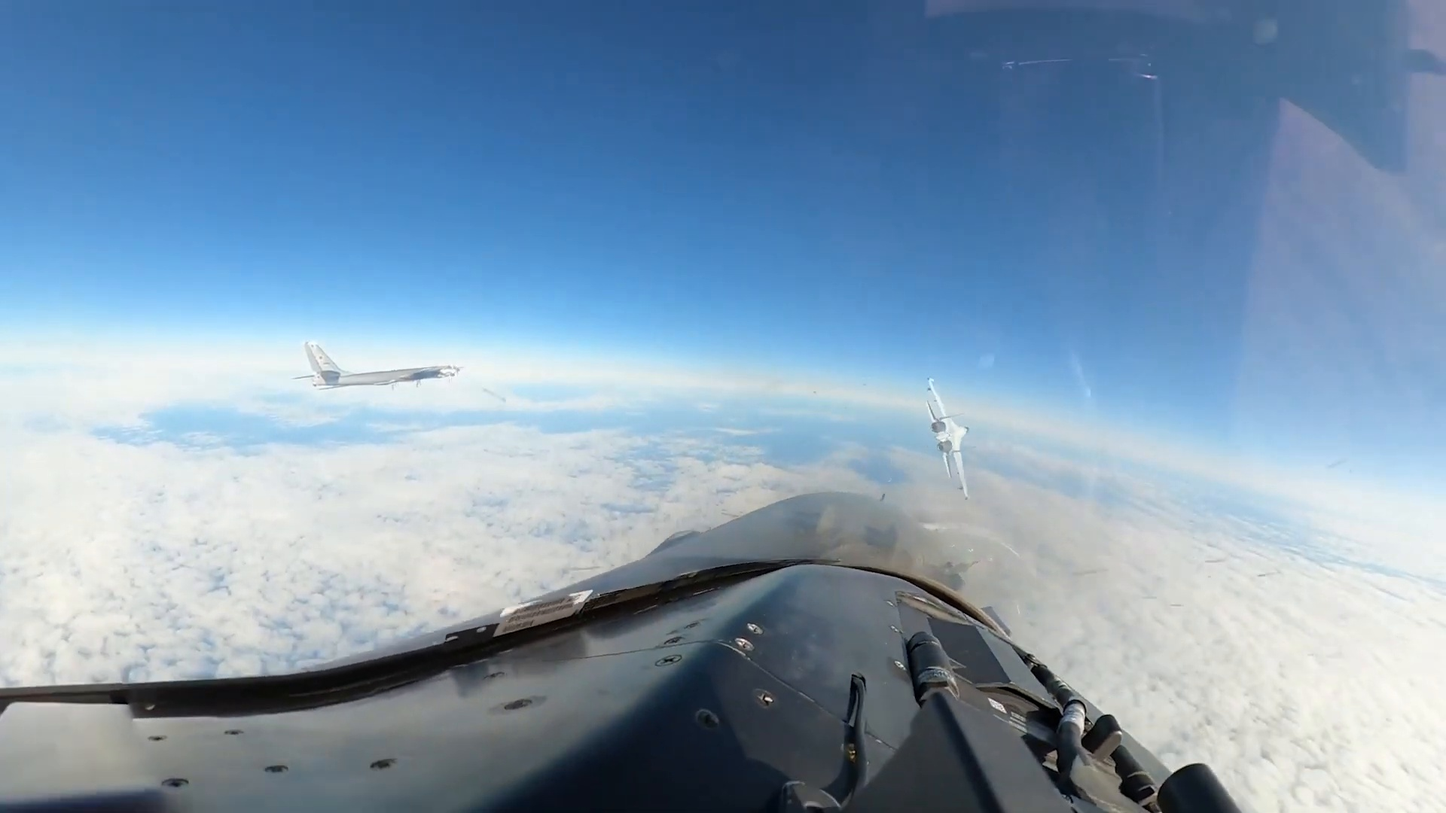Su35: (924, 376, 973, 499)
